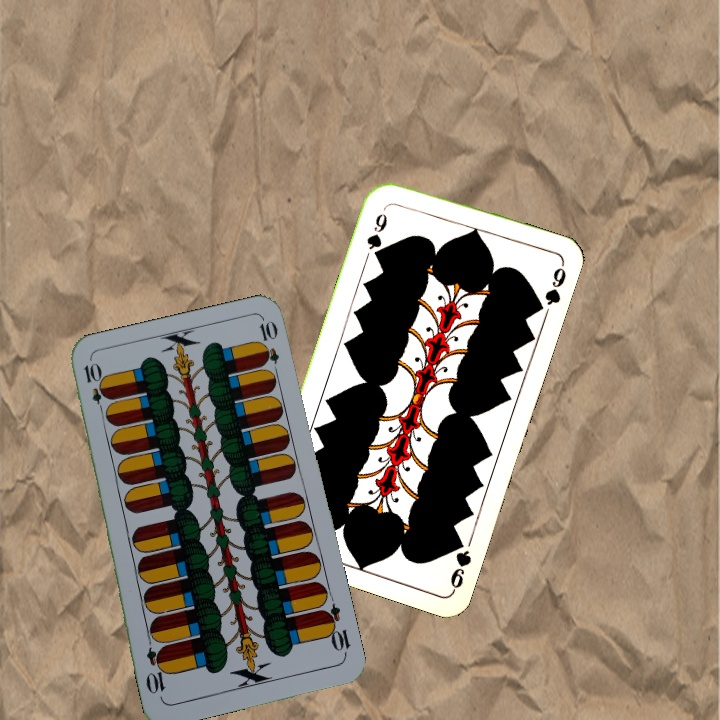E10: (318, 600, 354, 659), (80, 359, 109, 418)
G9: (446, 533, 474, 594), (362, 209, 390, 261)
